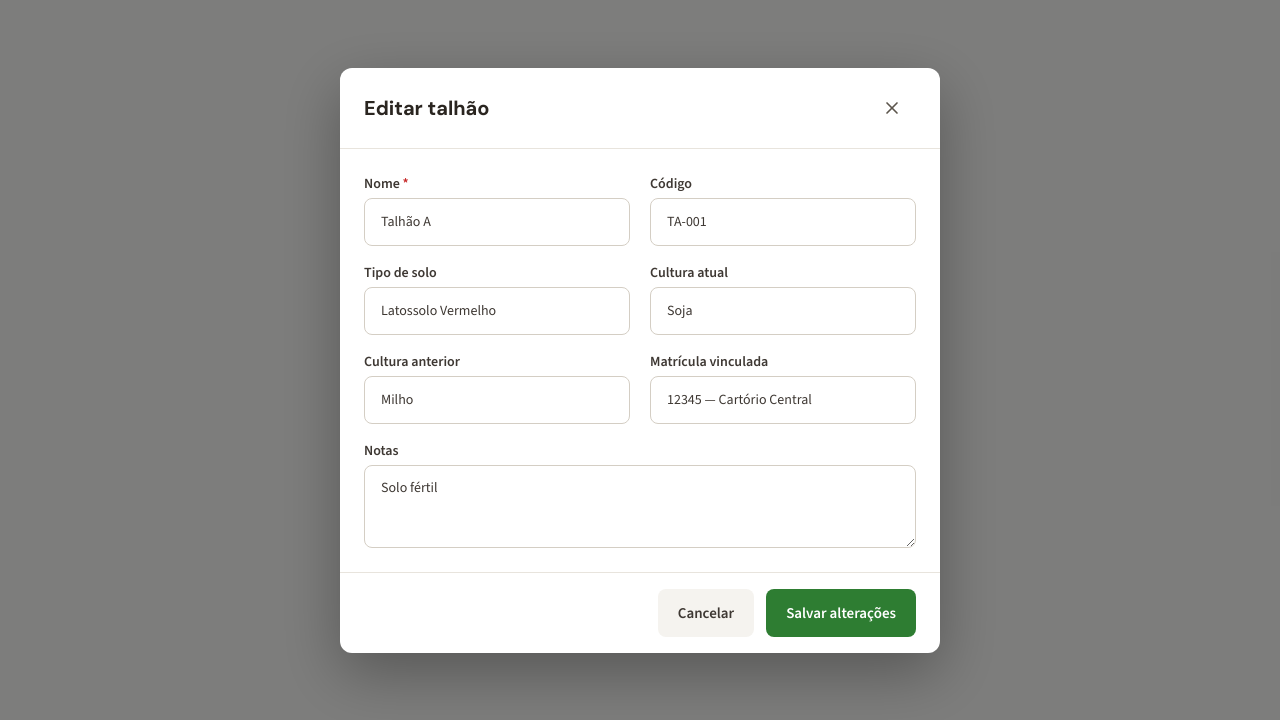
Test: EditPlotModal › displays server error with role="alert"
Click the button "Salvar alterações". click: [841, 612]
box: [766,588,916,636]
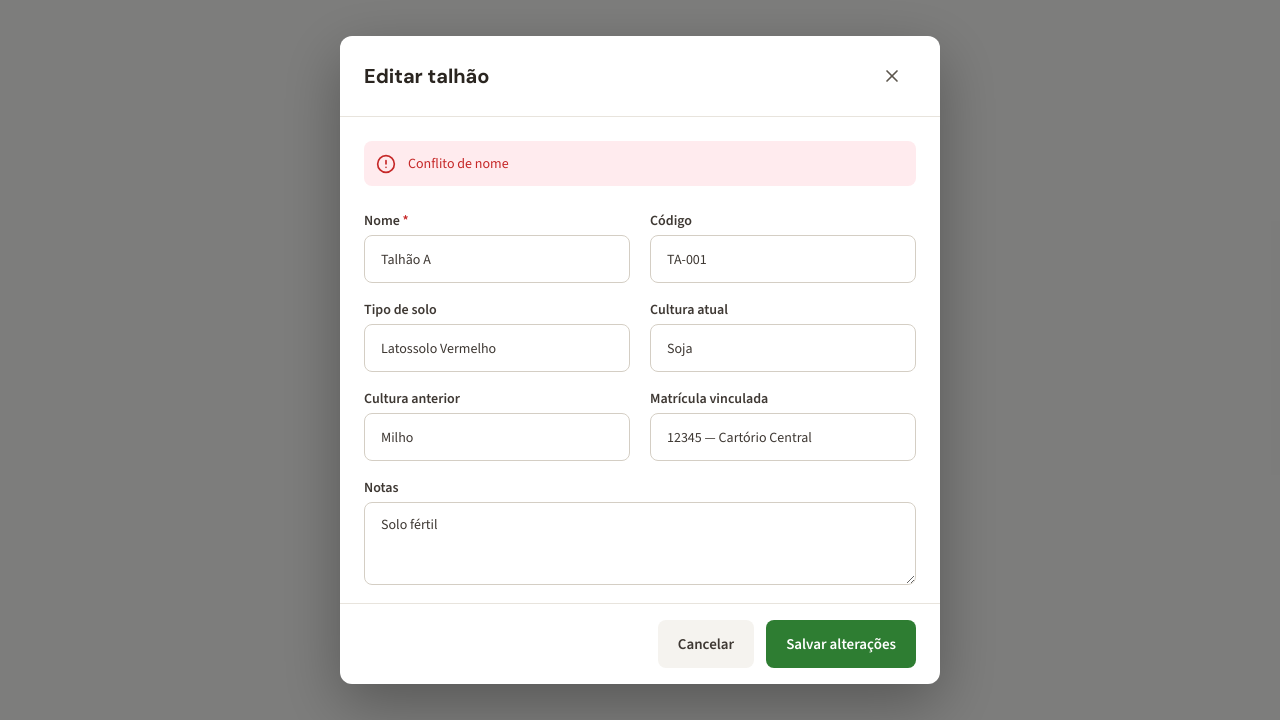
Check: the message "Conflito de nome" is shown, box [364,141,916,186]
